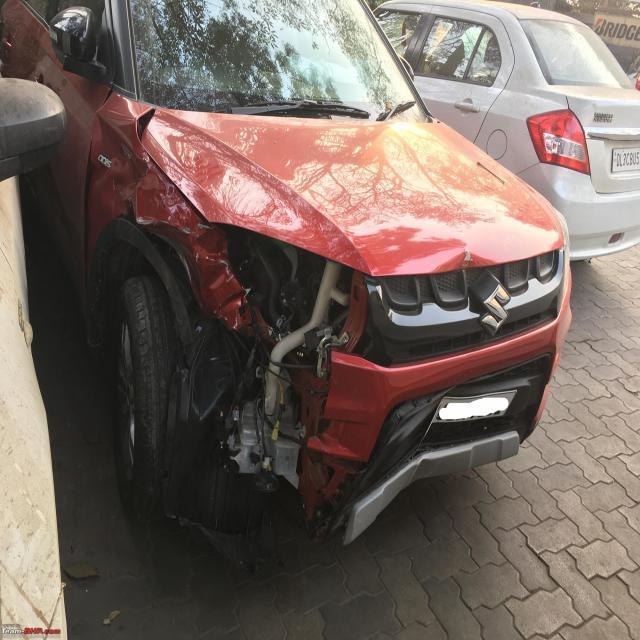fender-dent: (66, 94, 182, 328)
front-bumper-dent: (178, 236, 576, 507)
